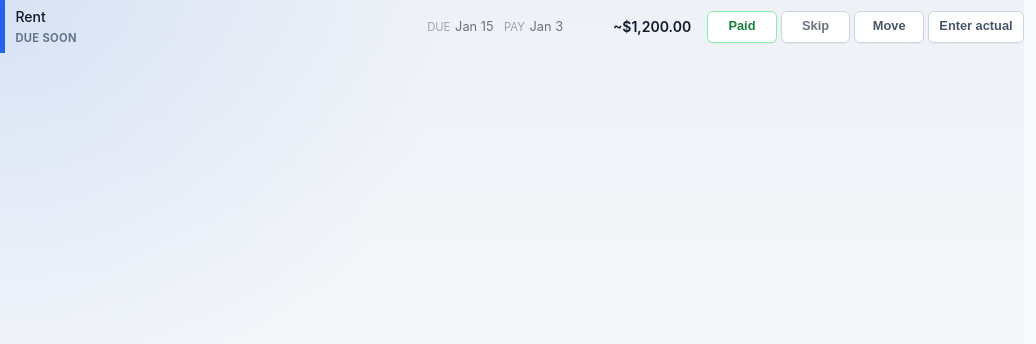
BillRow — variable bill › reveals input when Enter actual is clicked
Click the button "Enter actual": (976, 27) [928,11,1024,43]
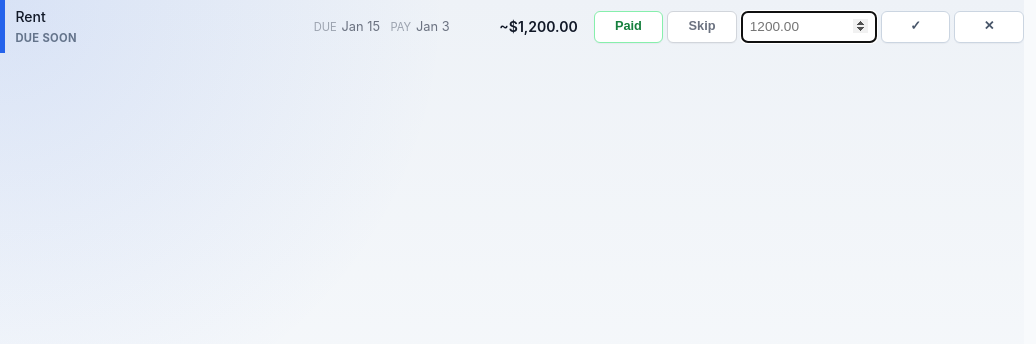
Expected: the number field named "actual amount" is shown, [741,11,877,43]
